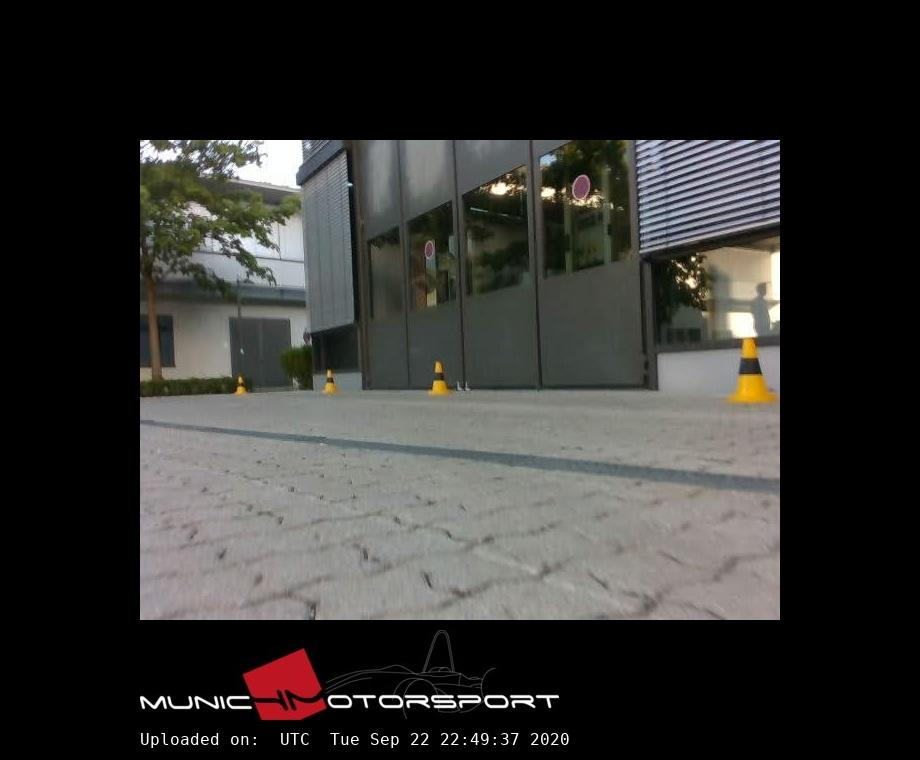yellow_cone: (729, 339, 777, 402), (429, 362, 447, 394), (323, 370, 337, 393), (234, 377, 247, 394)
